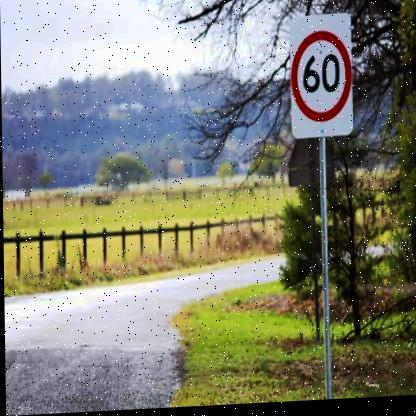Speed Limit -60-: (285, 34, 349, 129)
